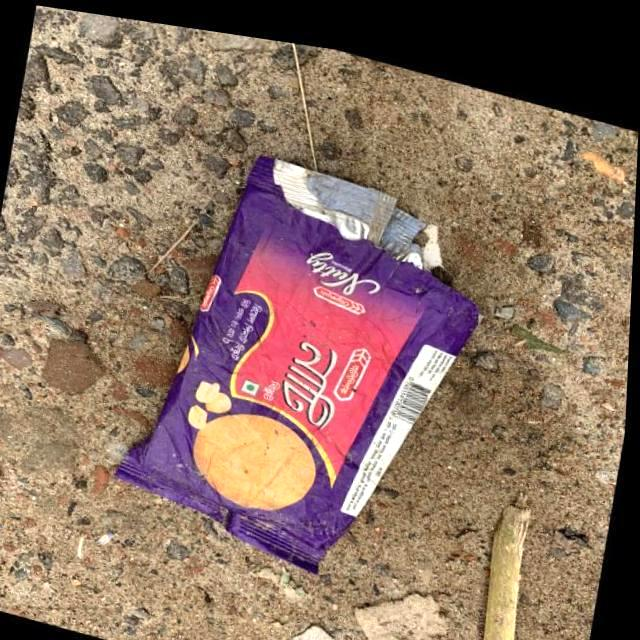packet: (143, 137, 465, 587)
